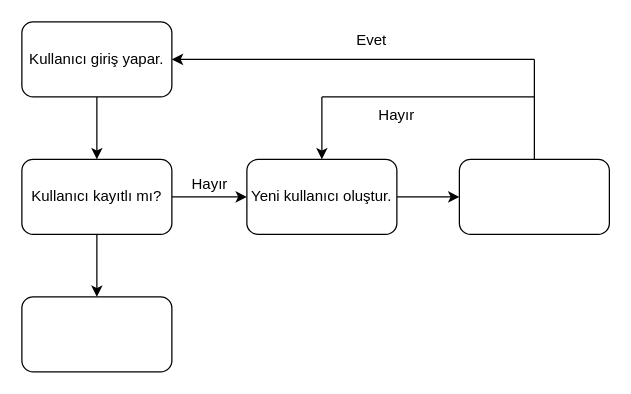
The diagram is 631 pixels wide and 394 high, and some of its shapes have lost their labels. Each missing label, with the box of its shape:
Email ve şifre uygun mu?: (458, 158, 609, 234)
Giriş yapıldı.: (21, 296, 172, 372)
